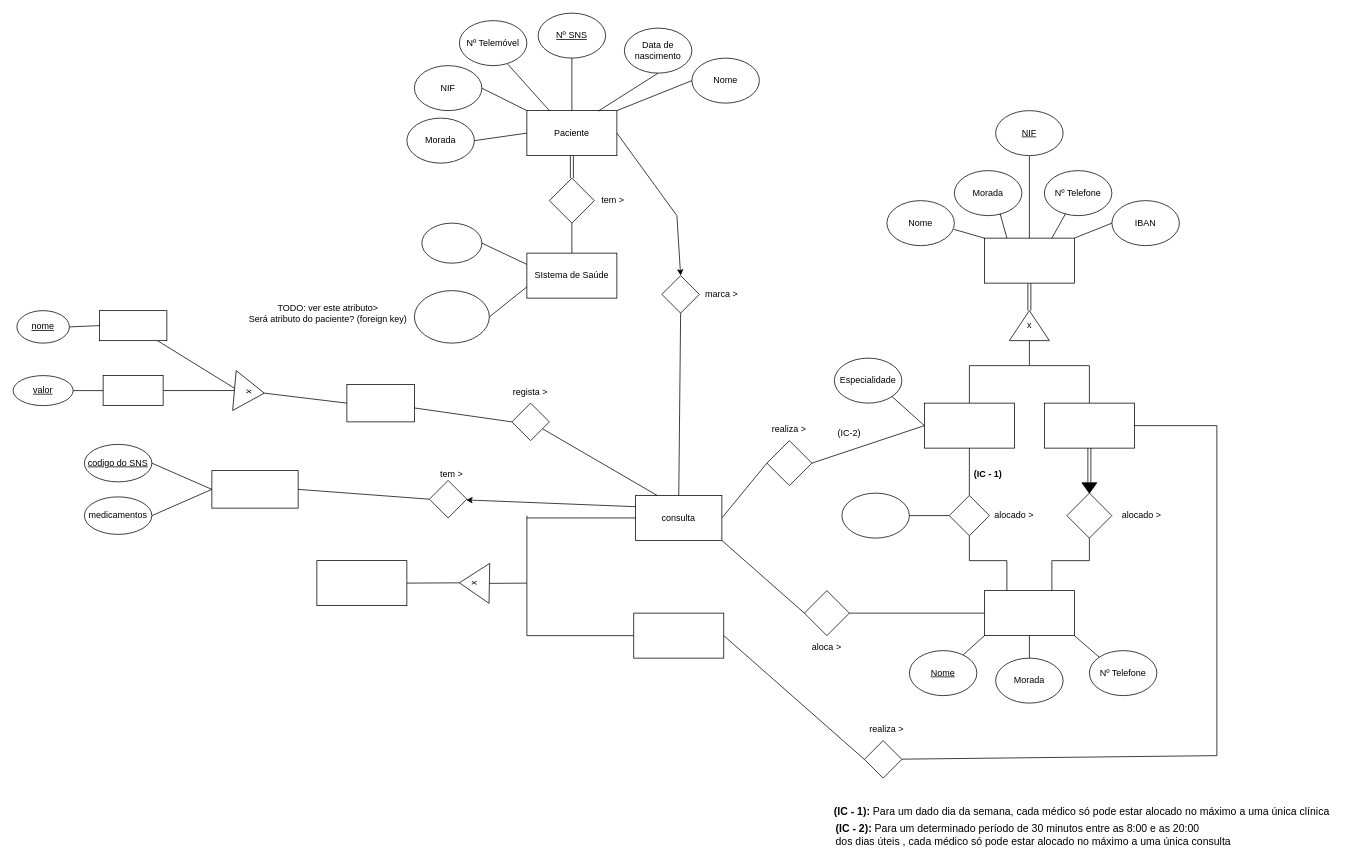
This 1358x860 diagram has some shape labels left out. Each missing label, with the centre of its shape:
"Clínica" belongs at [1029,613].
"Dia da semana" belongs at [875,515].
"Enfermeiro" belongs at [1089,425].
"Médico" belongs at [969,425].
"Nome do Sistema" belongs at [451,242].
"Número do Sistema Nacional de Saúde" belongs at [451,316].
"Profissional de Saúde" belongs at [1029,260].
"receita" belongs at [254,489].
"servico de enfermagem" belongs at [678,635].
"serviços de saude" belongs at [361,583].
"sintomas" belongs at [380,403].
"sintomas qualitativo" belongs at [133,325].
"sintomas quantitativos" belongs at [132,390].
